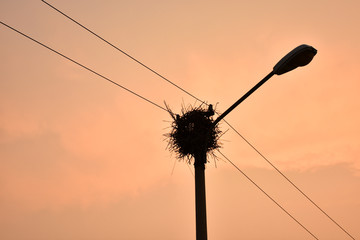bird-nest: (174, 110, 220, 155)
